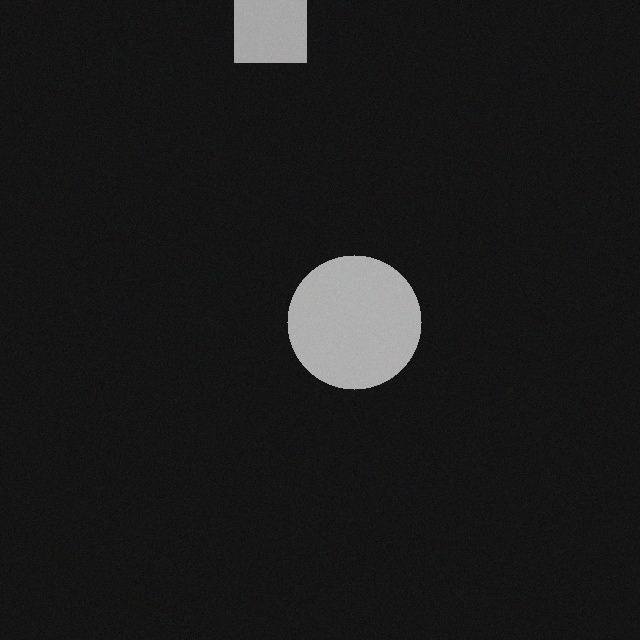circle: (280, 267, 414, 401)
square: (227, 2, 299, 74)
